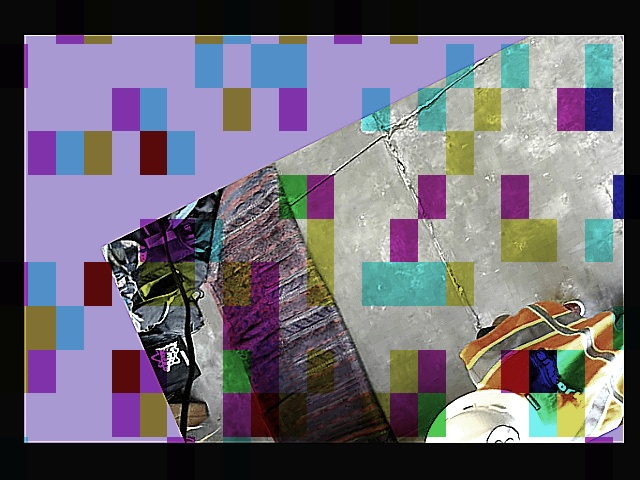eight: (476, 417, 531, 478)
